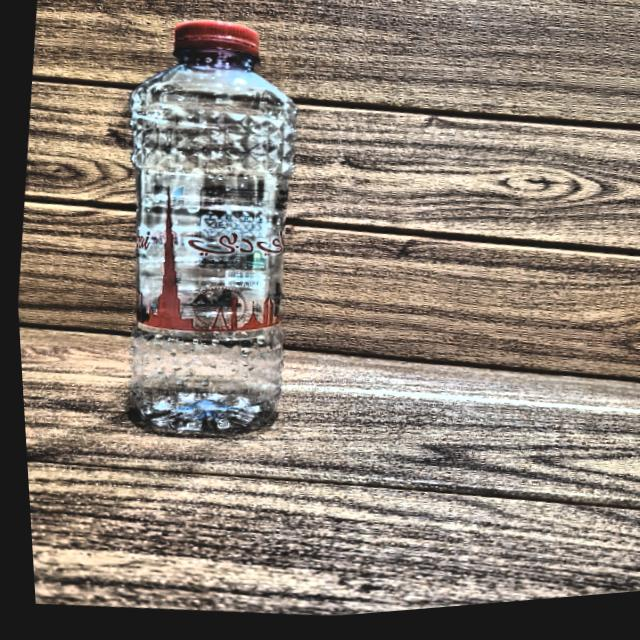Bottles: (71, 0, 375, 492)
